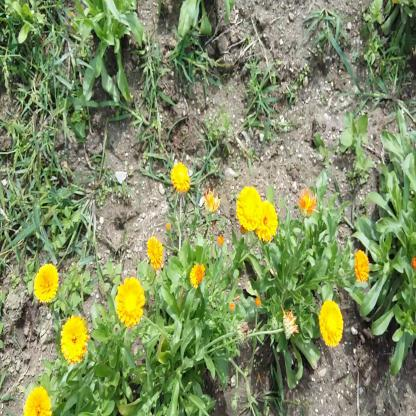marigold: (115, 281, 144, 326), (319, 300, 344, 346), (60, 316, 86, 360), (238, 188, 262, 231), (33, 264, 58, 304), (254, 200, 277, 241), (24, 387, 52, 415), (171, 160, 188, 192), (353, 250, 369, 284), (189, 265, 207, 292), (148, 237, 163, 268)
